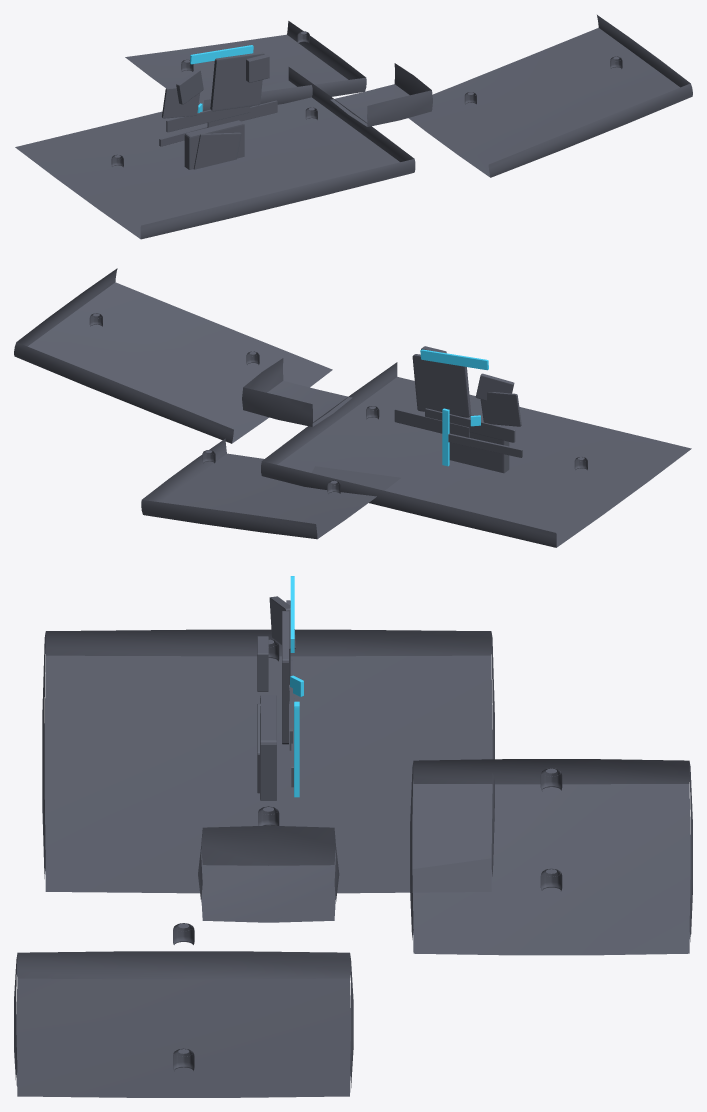
The model's file is greeble_armor_plates.glb.
3 renders of one model, top to bottom at view 1: azimuth 30°, elevation 25°; view 2: azimuth 150°, elevation 25°; view 3: azimuth 270°, elevation 25°, orthographic. The views are drawn at different scales.
Parts seen in each view (by area): view 1: greeble_armor_plates_Material_Hull_Merged, greeble_armor_plates_Material_Mechanical_Merged, DET_ablative_patch, DET_dock_scuff, DET_mount_flange, DET_plate_bolt_row, DET_micro_scratch_plate, DET_impact_scar, DET_rivet_row, DET_edge_chamfer_band, DET_cavity_grime_vent; view 2: greeble_armor_plates_Material_Hull_Merged, greeble_armor_plates_Material_Mechanical_Merged, DET_ablative_patch, DET_mount_flange, DET_micro_scratch_plate, DET_plate_bolt_row, DET_rivet_row, DET_edge_chamfer_band, DET_panel_line_emphasis, DET_impact_scar, DET_faction_stripe_port; view 3: greeble_armor_plates_Material_Hull_Merged, greeble_armor_plates_Material_Mechanical_Merged, DET_mount_flange, DET_ablative_patch.
Part boxes in pixels (x1,y1,x2,y2): greeble_armor_plates_Material_Hull_Merged: [15, 15, 692, 239]; greeble_armor_plates_Material_Mechanical_Merged: [111, 31, 622, 167]; DET_ablative_patch: [210, 52, 264, 111]; DET_dock_scuff: [193, 132, 241, 169]; DET_mount_flange: [184, 120, 244, 169]; DET_plate_bolt_row: [166, 106, 250, 132]; DET_micro_scratch_plate: [162, 87, 199, 118]; DET_impact_scar: [176, 69, 203, 104]; DET_rivet_row: [207, 100, 277, 127]; DET_edge_chamfer_band: [190, 45, 253, 64]; DET_cavity_grime_vent: [246, 54, 269, 82]; greeble_armor_plates_Material_Hull_Merged: [14, 268, 691, 547]; greeble_armor_plates_Material_Mechanical_Merged: [89, 313, 587, 493]; DET_ablative_patch: [412, 354, 471, 417]; DET_mount_flange: [449, 432, 509, 473]; DET_micro_scratch_plate: [480, 392, 521, 426]; DET_plate_bolt_row: [425, 408, 515, 442]; DET_rivet_row: [394, 409, 469, 437]; DET_edge_chamfer_band: [420, 349, 488, 370]; DET_panel_line_emphasis: [448, 433, 522, 457]; DET_impact_scar: [475, 373, 514, 400]; DET_faction_stripe_port: [442, 408, 449, 466]; greeble_armor_plates_Material_Hull_Merged: [14, 629, 692, 1097]; greeble_armor_plates_Material_Mechanical_Merged: [173, 639, 562, 1071]; DET_mount_flange: [260, 695, 276, 800]; DET_ablative_patch: [282, 611, 288, 744].
Size of the model in its own units: 3.94 by 0.897 by 2.4.
